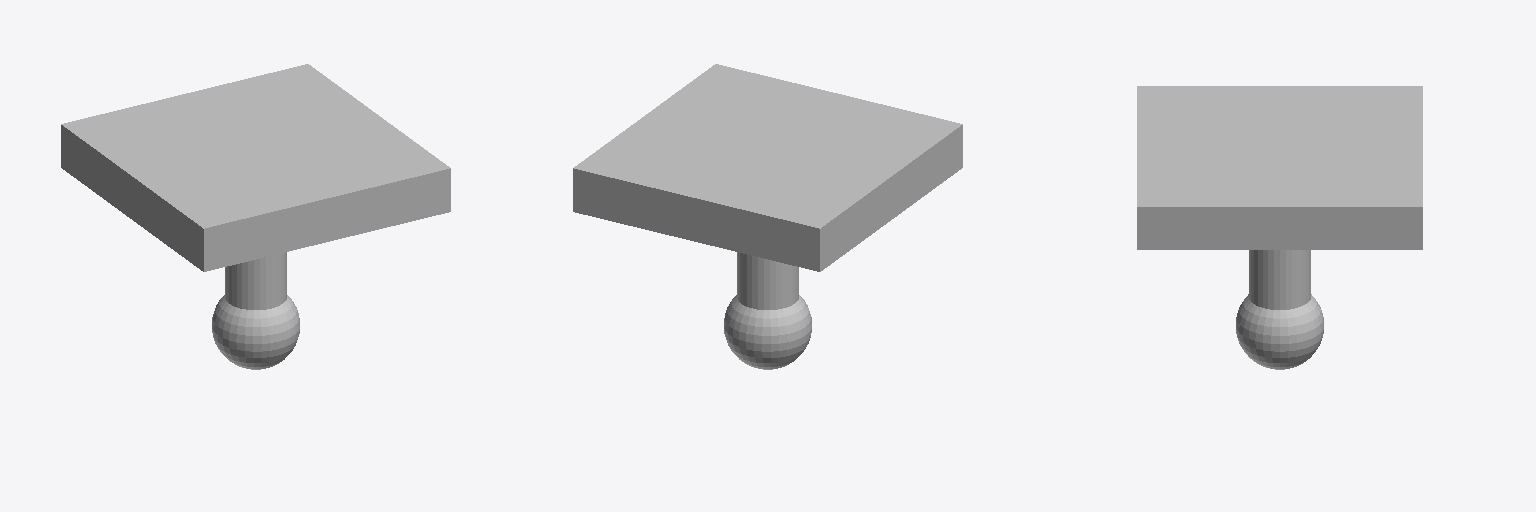
The model's file is platform.obj.
The picture shows the model from 3 angles: view 1: azimuth 30°, elevation 25°; view 2: azimuth 150°, elevation 25°; view 3: azimuth 270°, elevation 25°; orthographic projection.
Parts seen in each view (by area): view 1: Cube; view 2: Cube; view 3: Cube.
Part boxes in pixels (left/top/right/bottom): Cube: left=61, top=64, right=450, bottom=369; Cube: left=573, top=64, right=962, bottom=369; Cube: left=1137, top=86, right=1422, bottom=369.
Size of the model in its own units: 2 by 1.7 by 2.